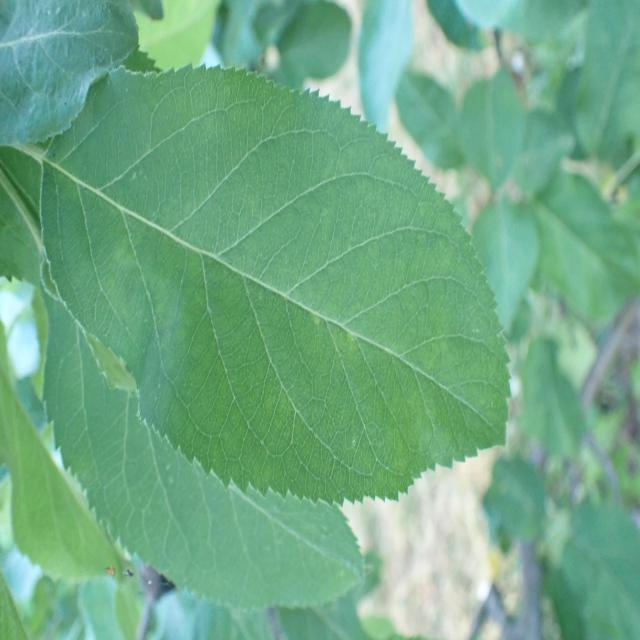healthy: (40, 62, 512, 509), (40, 275, 366, 614), (0, 0, 140, 147)
